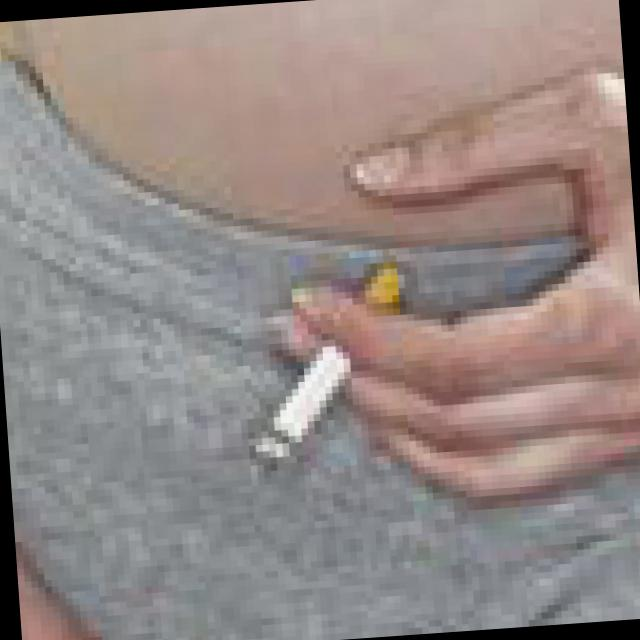smoke: (239, 336, 335, 472)
